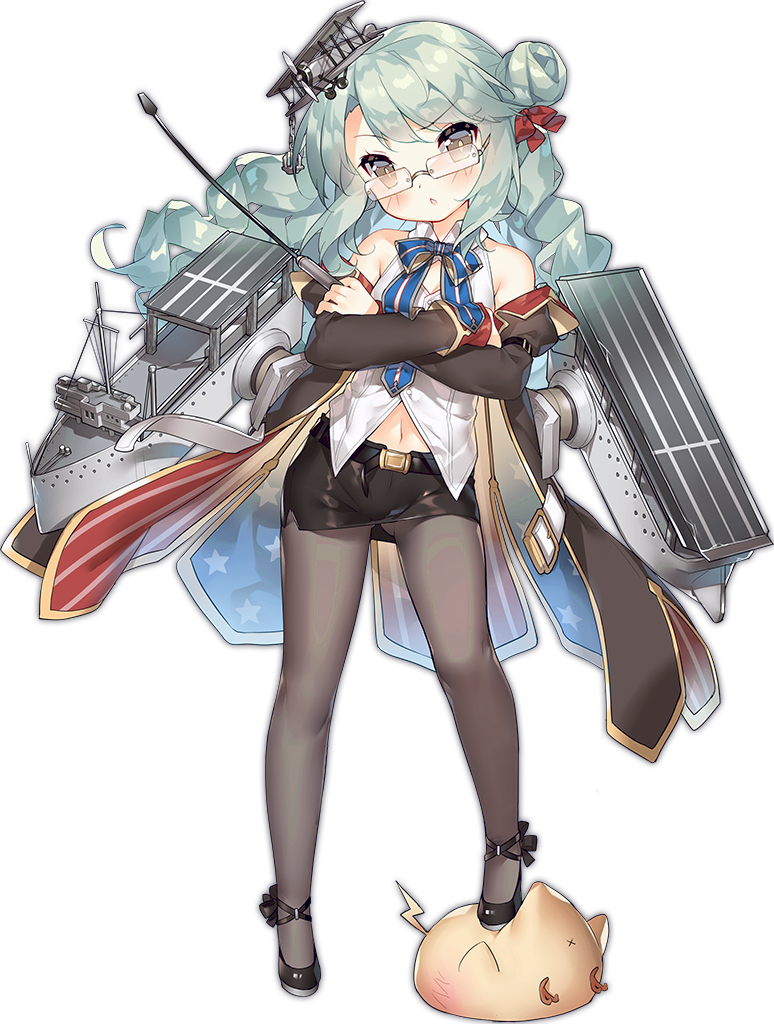person: (102, 8, 666, 873)
